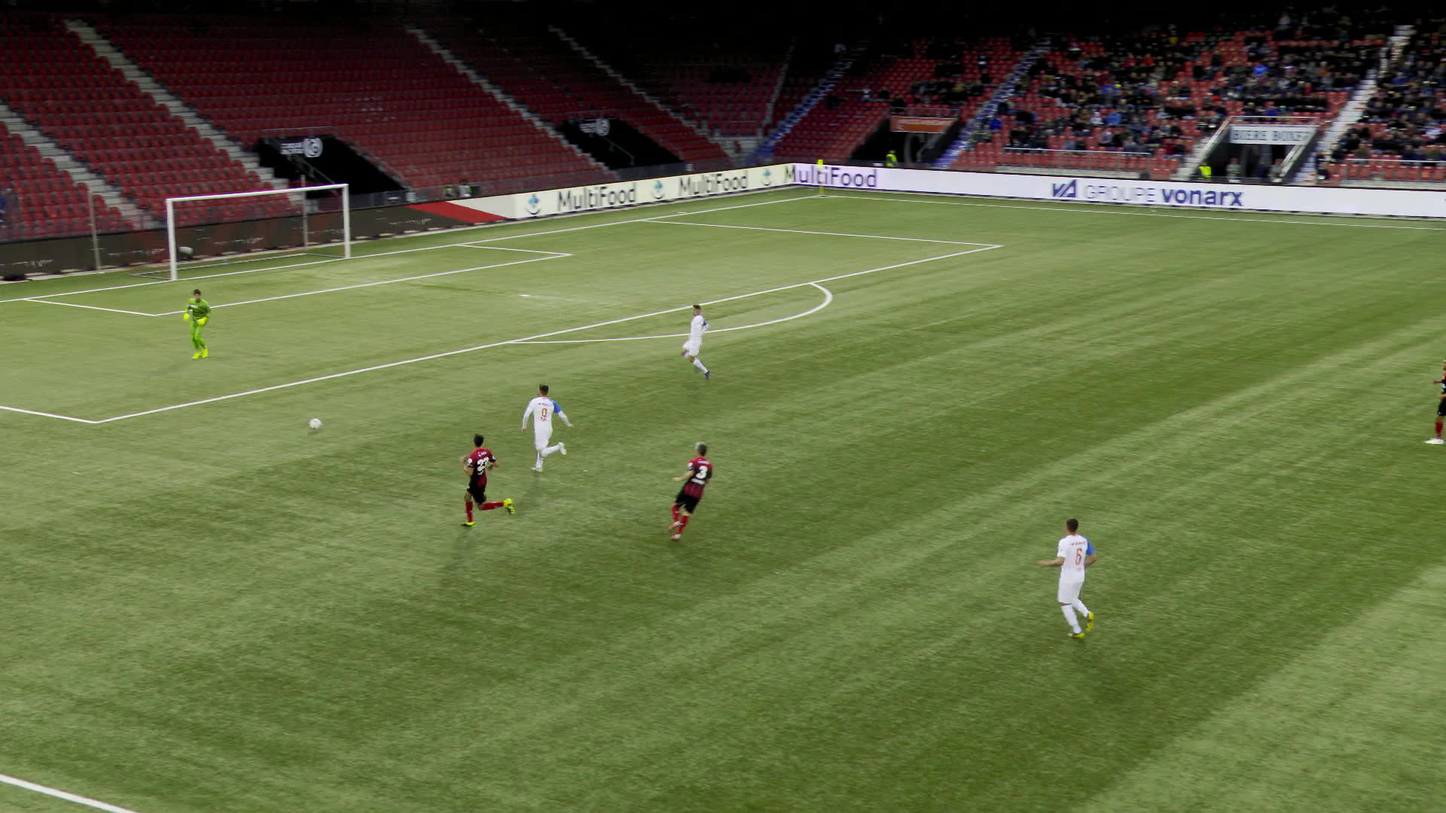ball: (310, 416, 325, 430)
player: (1037, 518, 1097, 641), (456, 432, 515, 528), (520, 382, 575, 476), (664, 439, 712, 542), (678, 303, 709, 380), (183, 288, 213, 358), (1426, 369, 1445, 446)
referee: (1435, 181, 1444, 226)
